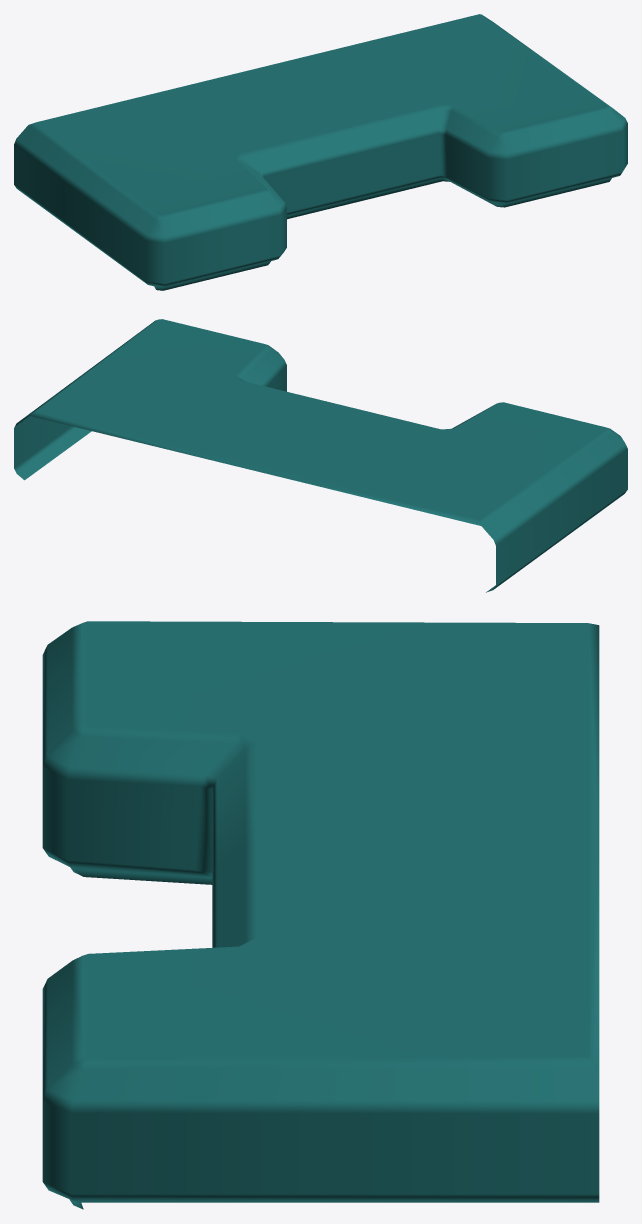
The model's file is SM_Building_Top_01.fbx.
3 views of the same model, one above another, from view 1: azimuth 30°, elevation 25°; view 2: azimuth 150°, elevation 25°; view 3: azimuth 270°, elevation 25° (orthographic). The views are drawn at different scales.
Parts seen in each view (by area): view 1: Box024; view 2: Box024; view 3: Box024.
Part boxes in pixels (left/top/right/bottom): Box024: left=14, top=14, right=627, bottom=290; Box024: left=14, top=319, right=627, bottom=592; Box024: left=42, top=621, right=599, bottom=1209.
Size of the model in its own units: 635 by 93.19 by 318.
